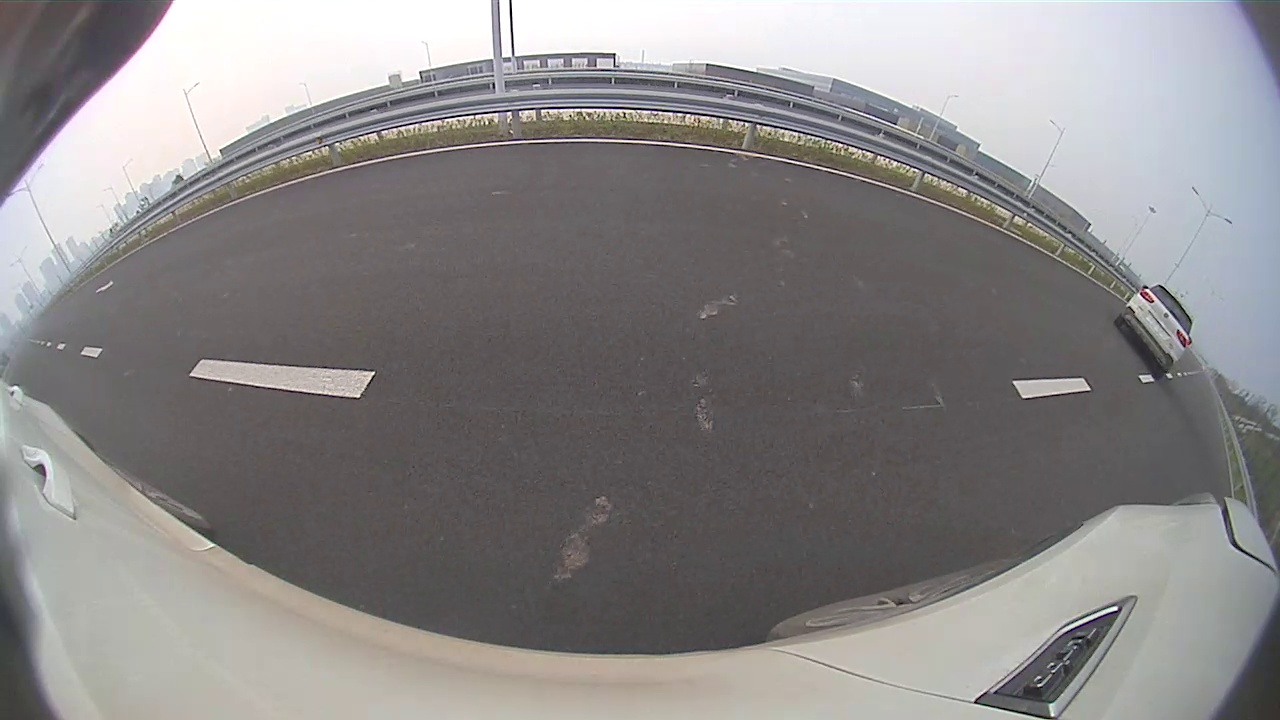car: (706, 152, 771, 196)
rear: (718, 176, 729, 194)
